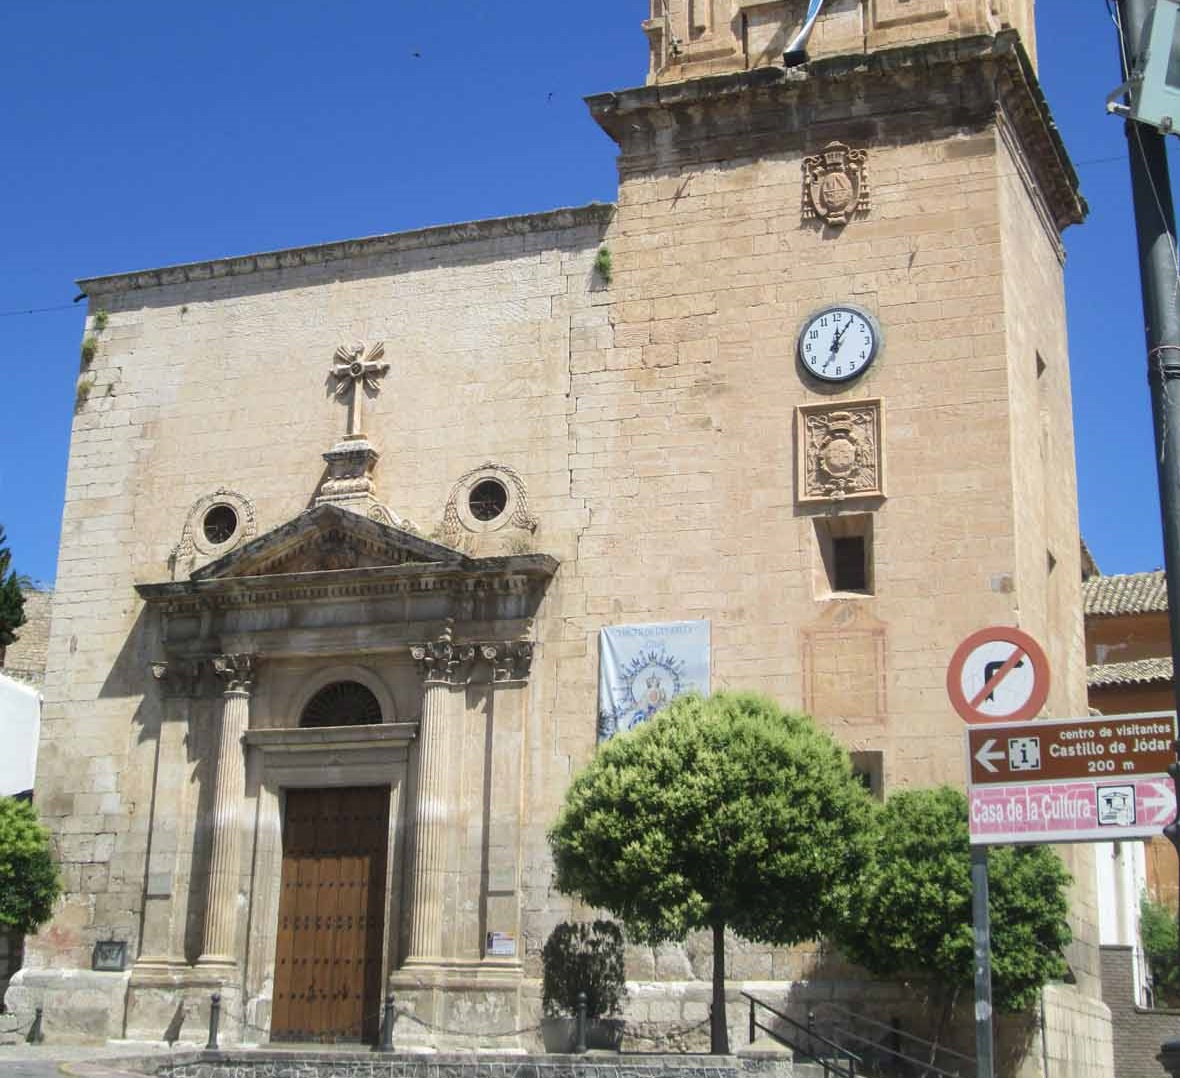fronton: (189, 497, 474, 596)
ojo-de-buey: (462, 469, 514, 523), (192, 493, 242, 547)
vano-adintelado: (257, 753, 409, 1048)
